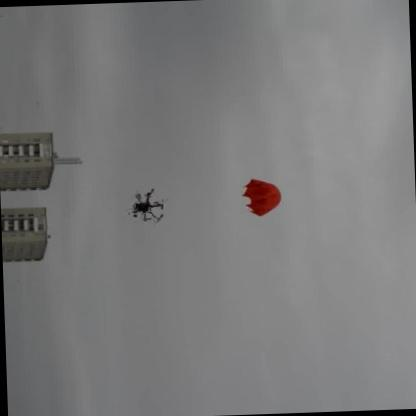drone: (114, 181, 175, 231)
